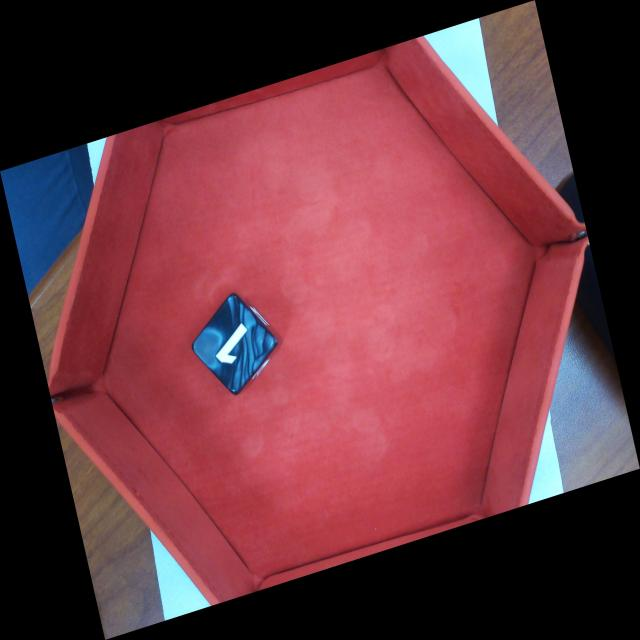dice: (191, 291, 279, 397)
